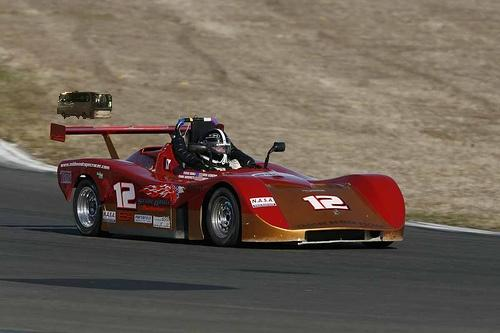tampered: (58, 92, 112, 119)
